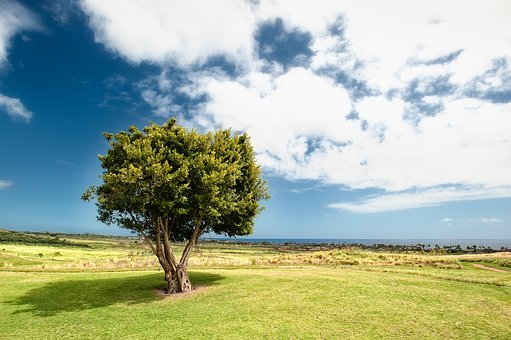field: (6, 234, 511, 339)
sky: (3, 3, 511, 236)
tree: (95, 118, 261, 293)
